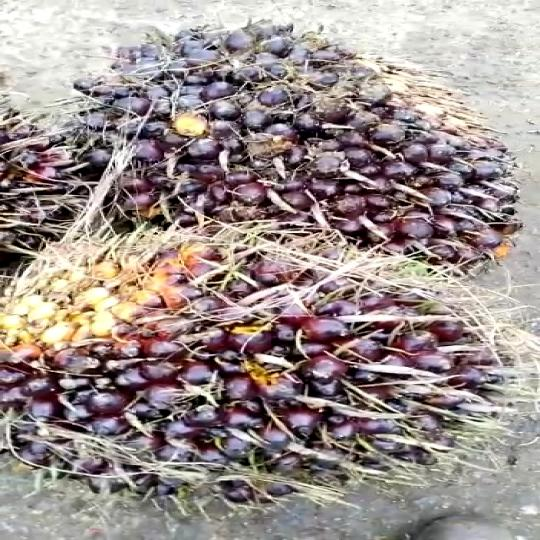kurang masak: (0, 226, 540, 508), (84, 19, 540, 284)
